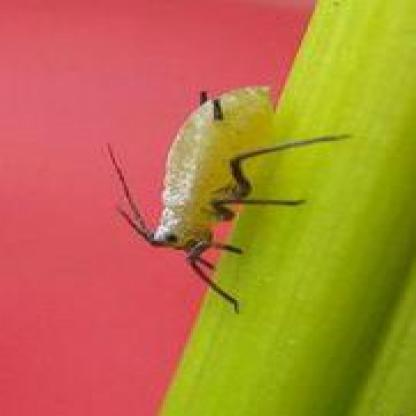aphid: (102, 62, 339, 288)
